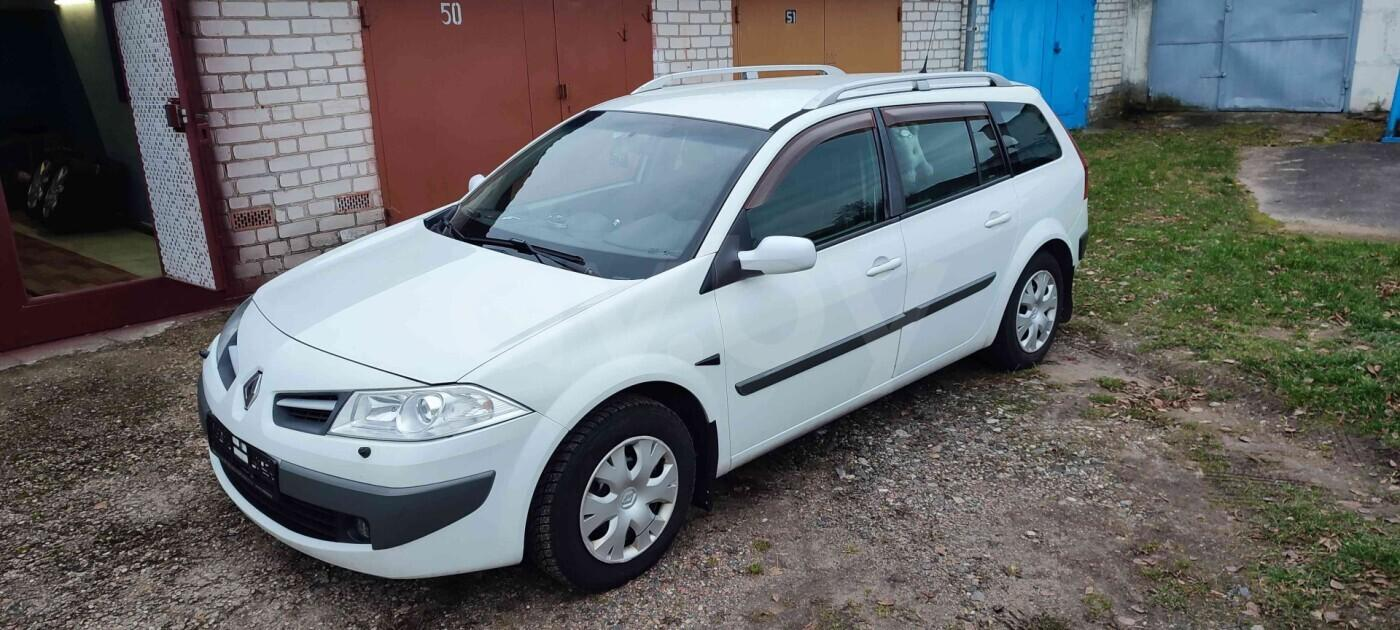Megane_2005-2009: (186, 62, 1089, 602)
